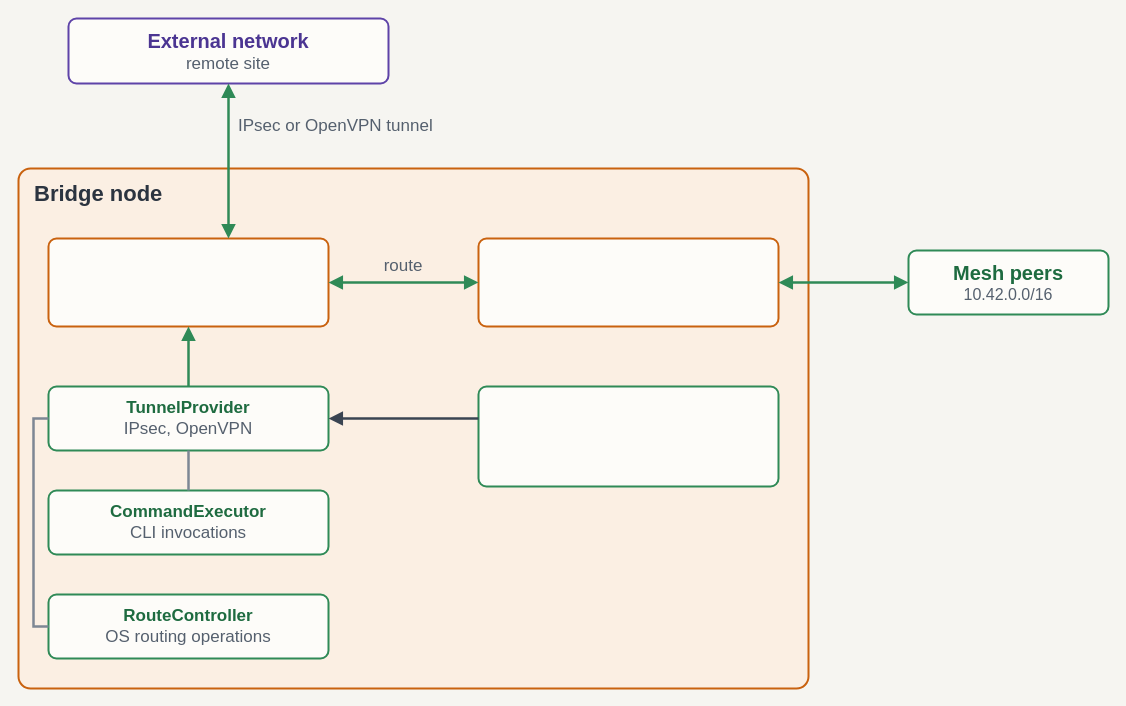
This 1126x706 diagram has some shape labels left out. The centre of each missing label's shape, as x and y in pixels:
IPsec / OpenVPN tunnels ipsec-{id}, tun-{id}: [188,282]
Mesh WireGuard interface plexd0: [628,282]
SiteToSiteManager delegates when tunnel.ProviderType != "" && != "wireguard": [628,436]
